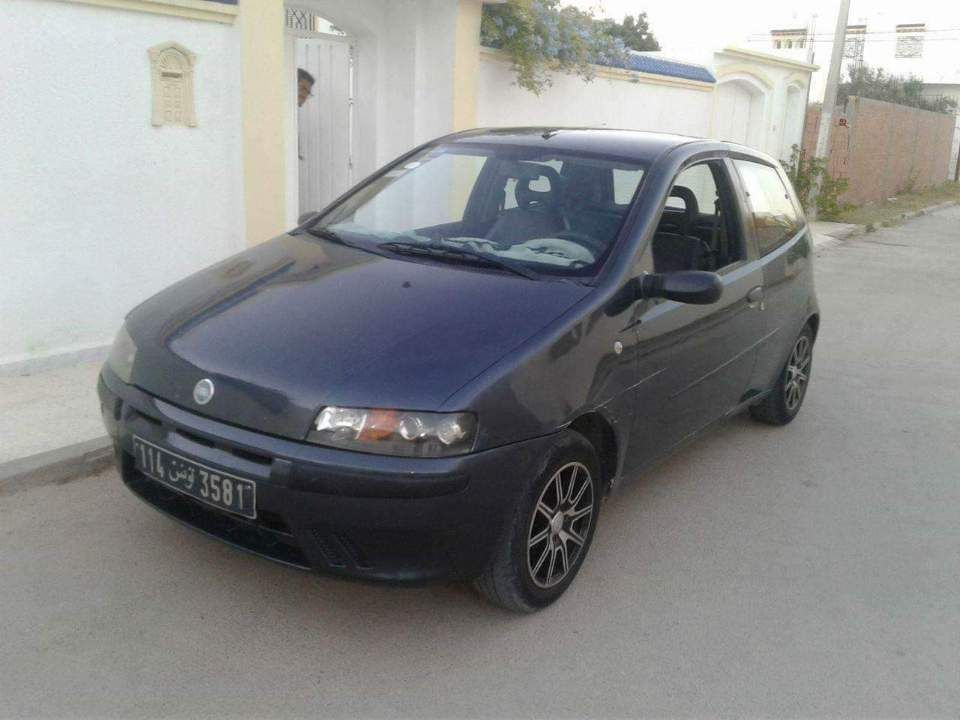LP: (133, 433, 259, 522)
